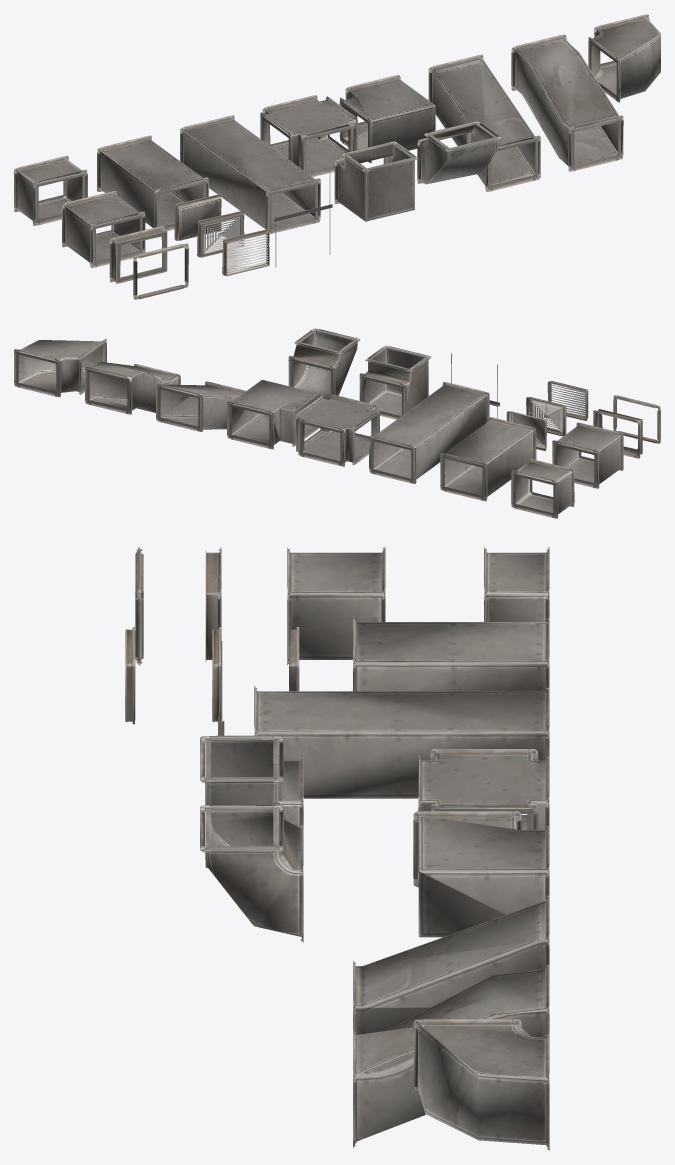
The model's file is modular_airduct_rectangular_01.glb.
3 renders of one model, top to bottom at view 1: azimuth 30°, elevation 25°; view 2: azimuth 150°, elevation 25°; view 3: azimuth 270°, elevation 25°, orthographic. The views are drawn at different scales.
Parts seen in each view (by area): view 1: modular_airduct_rectangular_01_single_01; view 2: modular_airduct_rectangular_01_single_01; view 3: modular_airduct_rectangular_01_single_01.
Boxes of the visible parts, <box> form: modular_airduct_rectangular_01_single_01: <box>14,14,660,299</box>; modular_airduct_rectangular_01_single_01: <box>14,328,660,518</box>; modular_airduct_rectangular_01_single_01: <box>125,547,549,1150</box>.
Size of the model in its own units: 7.66 by 1.26 by 2.59.
Materials: 2 (2 with a texture image).
